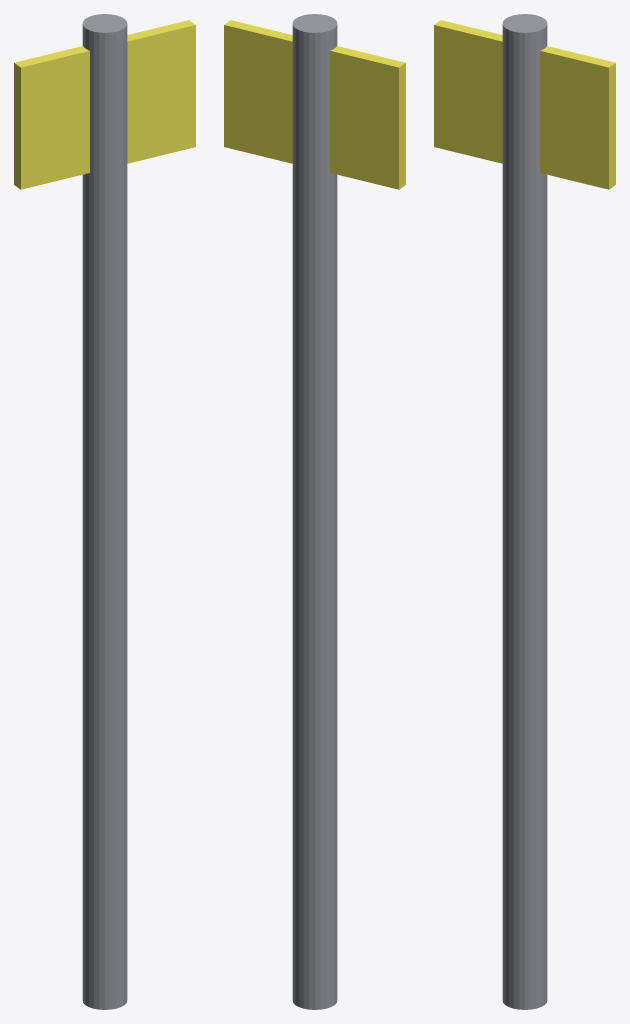
File: sign.glb
3 views of the same model, side by side, from view 1: azimuth 30°, elevation 25°; view 2: azimuth 150°, elevation 25°; view 3: azimuth 330°, elevation 25° (orthographic).
Visible parts, largest first — view 1: post, board; view 2: post, board; view 3: post, board.
Part boxes in pixels (left/top/right/bottom): post: left=82, top=14, right=127, bottom=1009; board: left=14, top=20, right=195, bottom=189; post: left=292, top=14, right=337, bottom=1009; board: left=224, top=20, right=405, bottom=189; post: left=502, top=14, right=547, bottom=1009; board: left=434, top=20, right=615, bottom=189.
Size of the model in its own units: 0.45 by 2.4 by 0.1.
